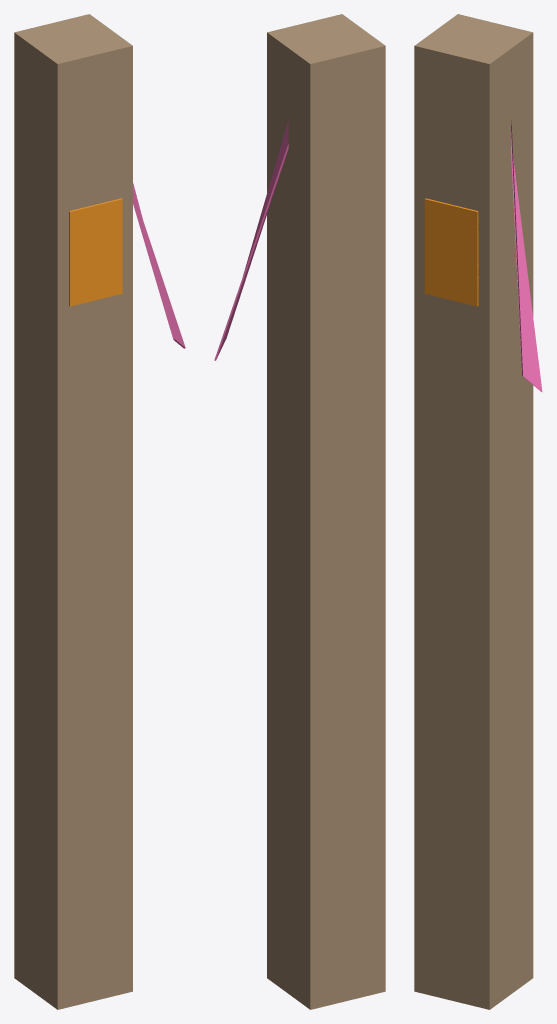
The model's file is trail_marker_post_custom.glb.
The picture shows the model from 3 angles, left to right: view 1: azimuth 30°, elevation 25°; view 2: azimuth 210°, elevation 25°; view 3: azimuth 330°, elevation 25°; orthographic projection.
Parts seen in each view (by area): view 1: body; view 2: body; view 3: body.
Boxes of the visible parts, x1=… form: body: x1=14, y1=14, x2=185, y2=1009; body: x1=214, y1=14, x2=385, y2=1009; body: x1=414, y1=14, x2=542, y2=1009.
Bounding box in the file's own units: 0.17 × 1.2 × 0.11.
